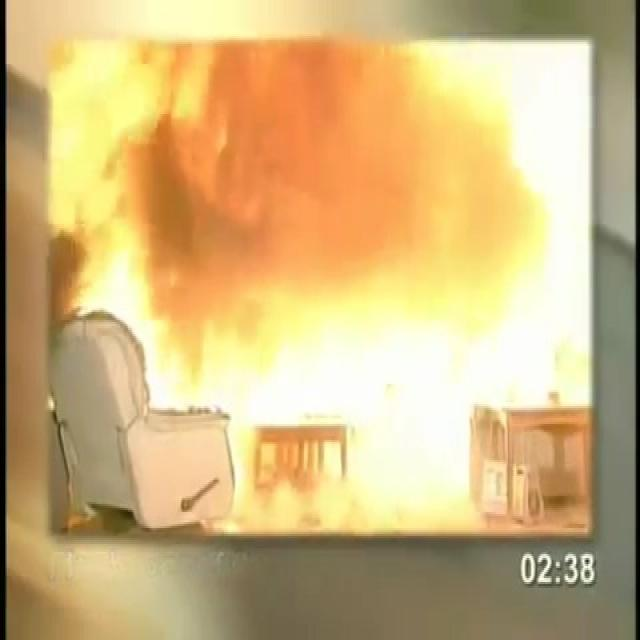Fire: (56, 44, 280, 310)
